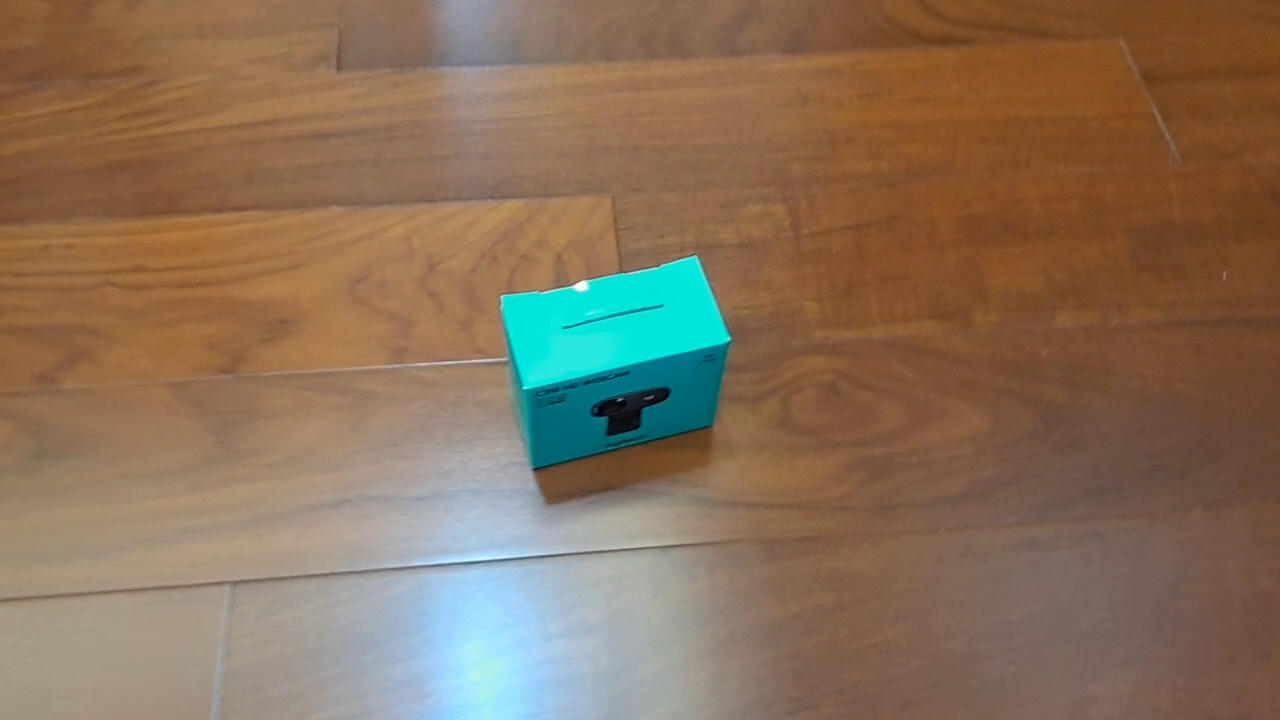webcam: (498, 253, 733, 473)
